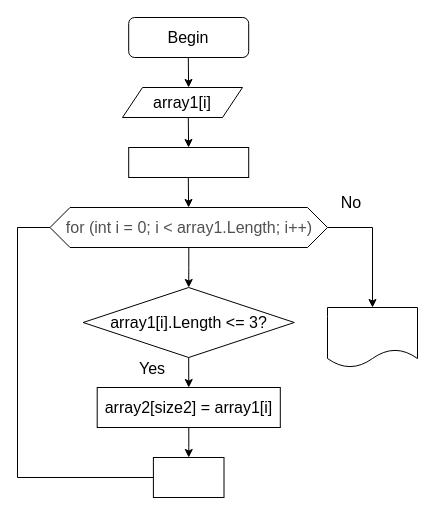
This 435x515 diagram has some shape labels left out. The shapes that lost their labels are listed below. From the top down, each one's centre as x and y in pixels, then its label:
At point 188,162: "Size2 = 0".
At point 372,337: "array2".
At point 188,477: "size2++".
